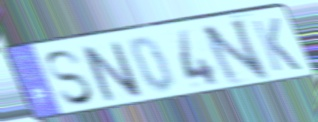0: (130, 34, 178, 95)
4: (175, 28, 222, 89)
K: (248, 16, 305, 74)
N: (198, 16, 272, 88), (77, 39, 147, 104)
S: (44, 48, 98, 109)
